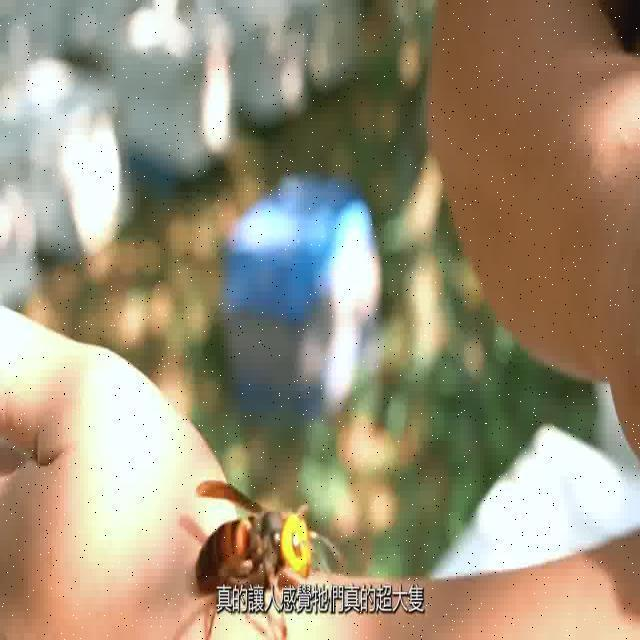Wasp: (166, 470, 342, 589)
